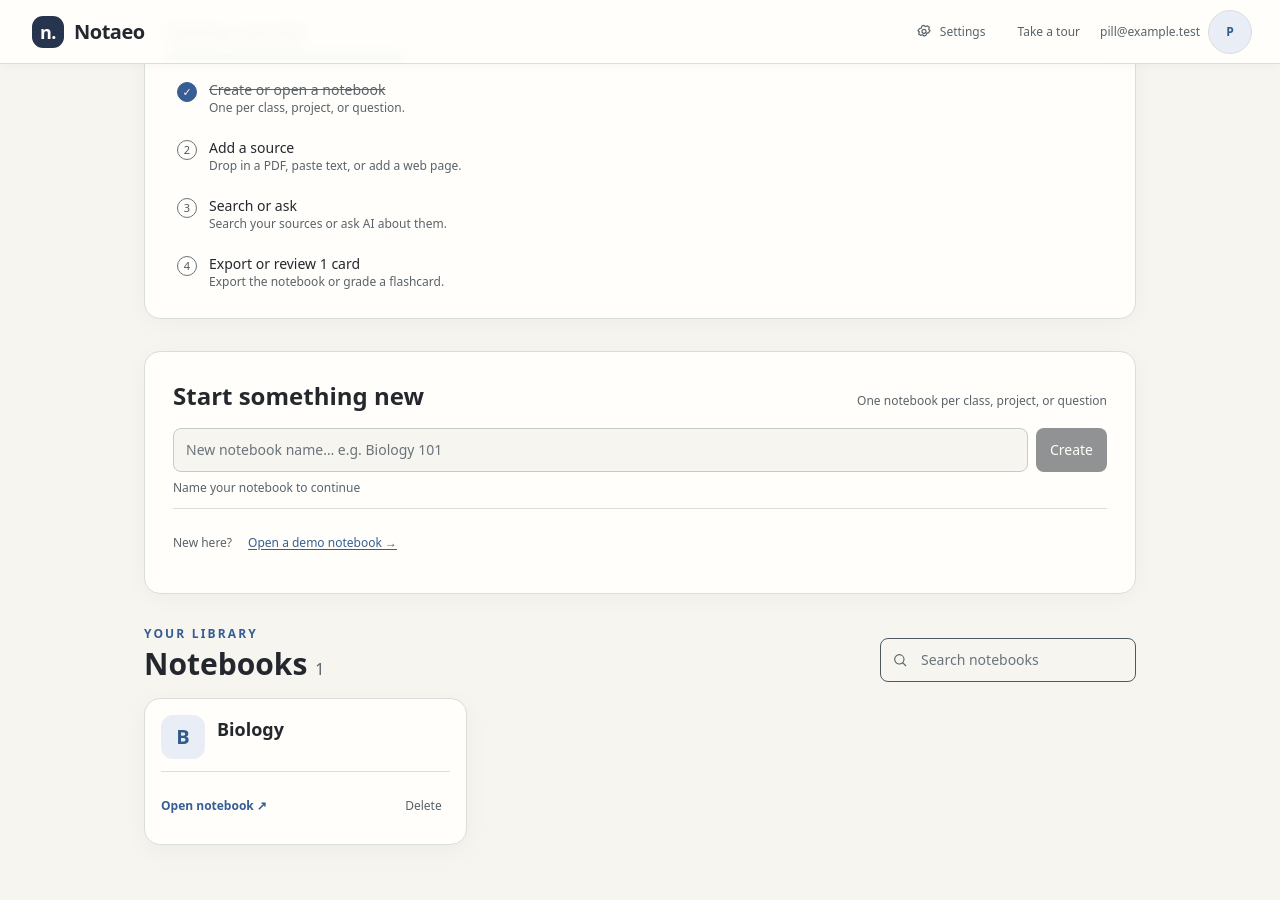
Test: dismisses the Exported pill via its dismiss button
(page scrolled)
Click the button with aria-label "Open Biology" at point(183, 737), box left=161, top=715, right=450, bottom=759
(page scrolled)
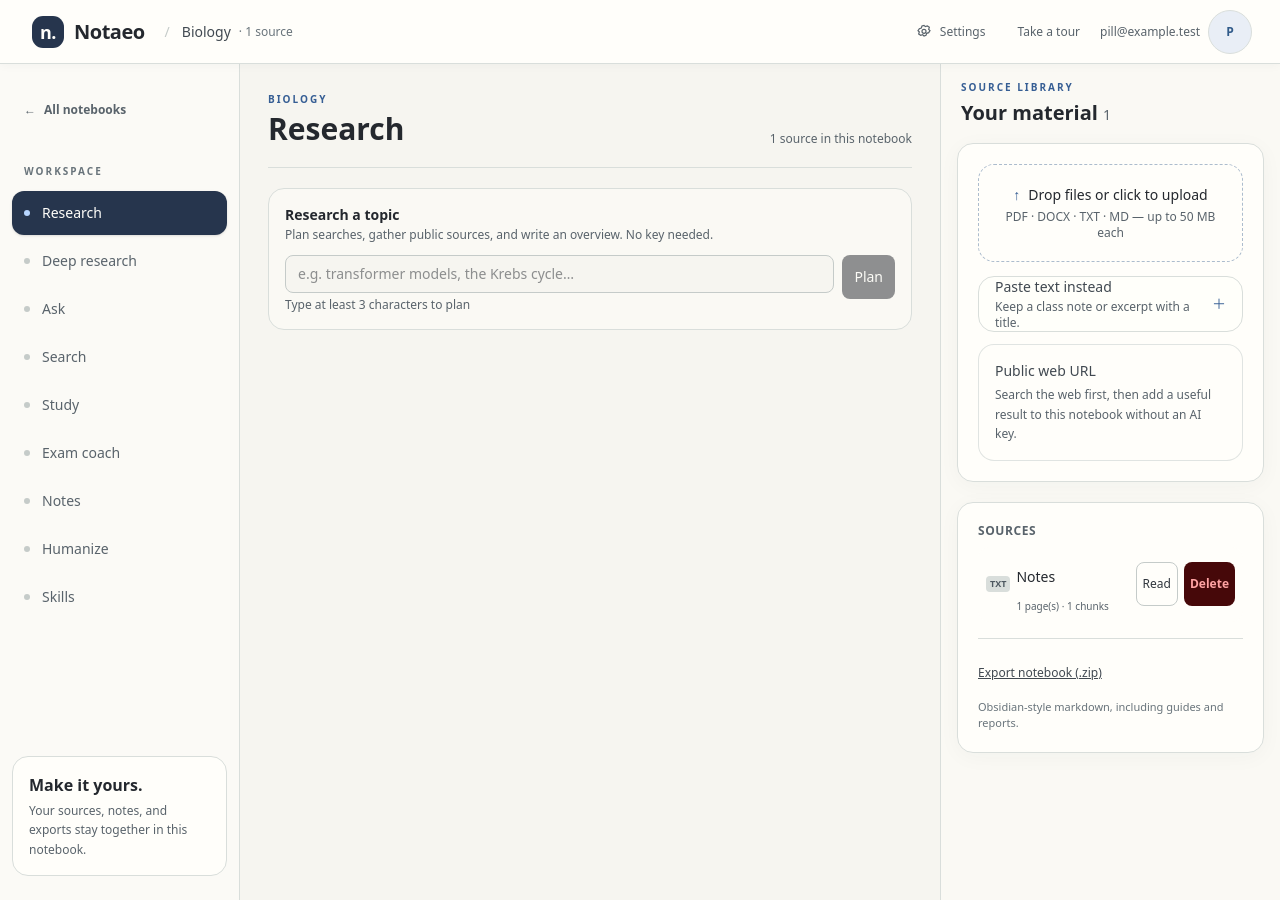
Click the button "Export notebook (.zip)" at point(1040, 672), box left=978, top=650, right=1102, bottom=694
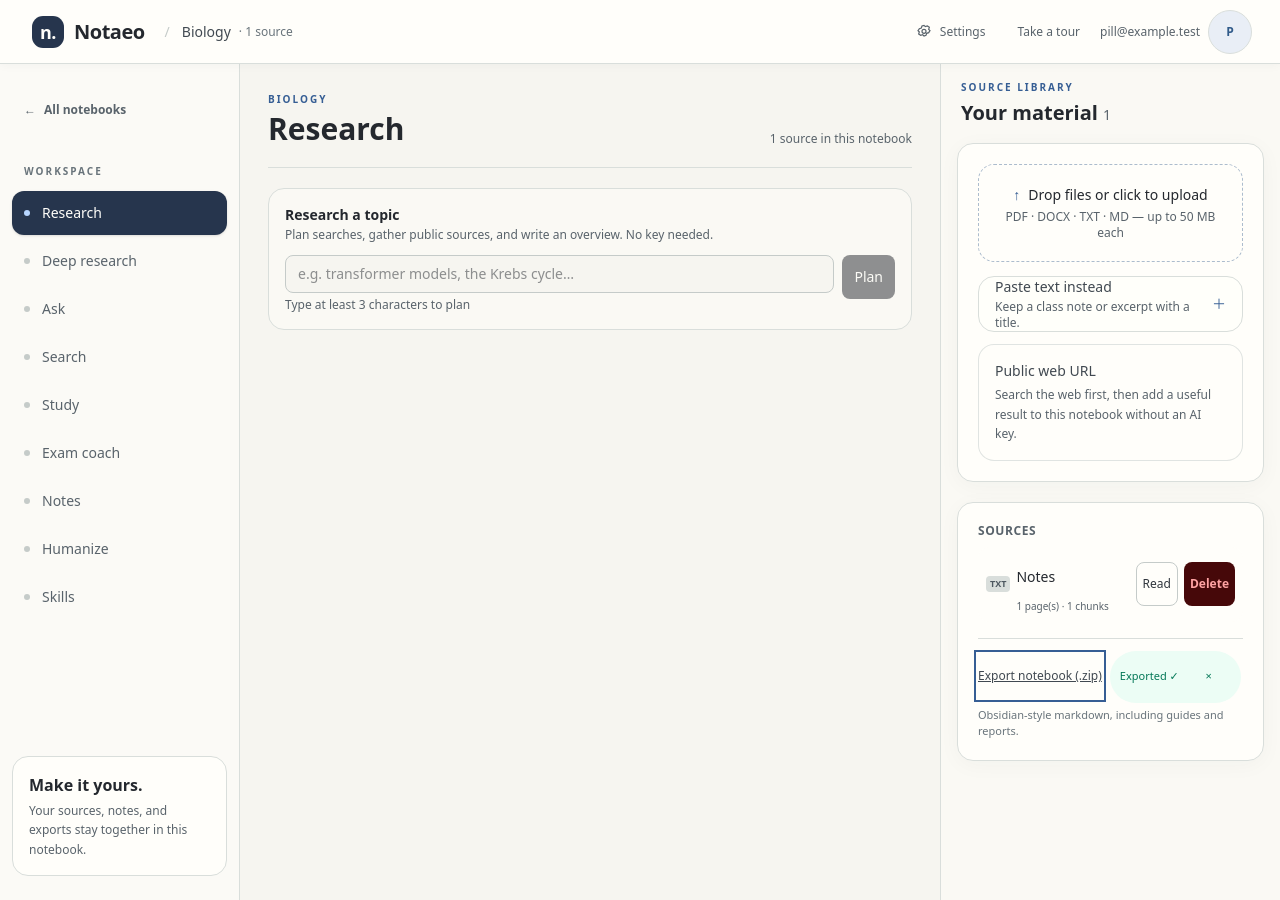
expect the text "Exported ✓ ×" is shown: met, box left=1110, top=650, right=1241, bottom=702
Click the button named "dismiss export confirmation" at point(1209, 676), box left=1187, top=654, right=1231, bottom=698
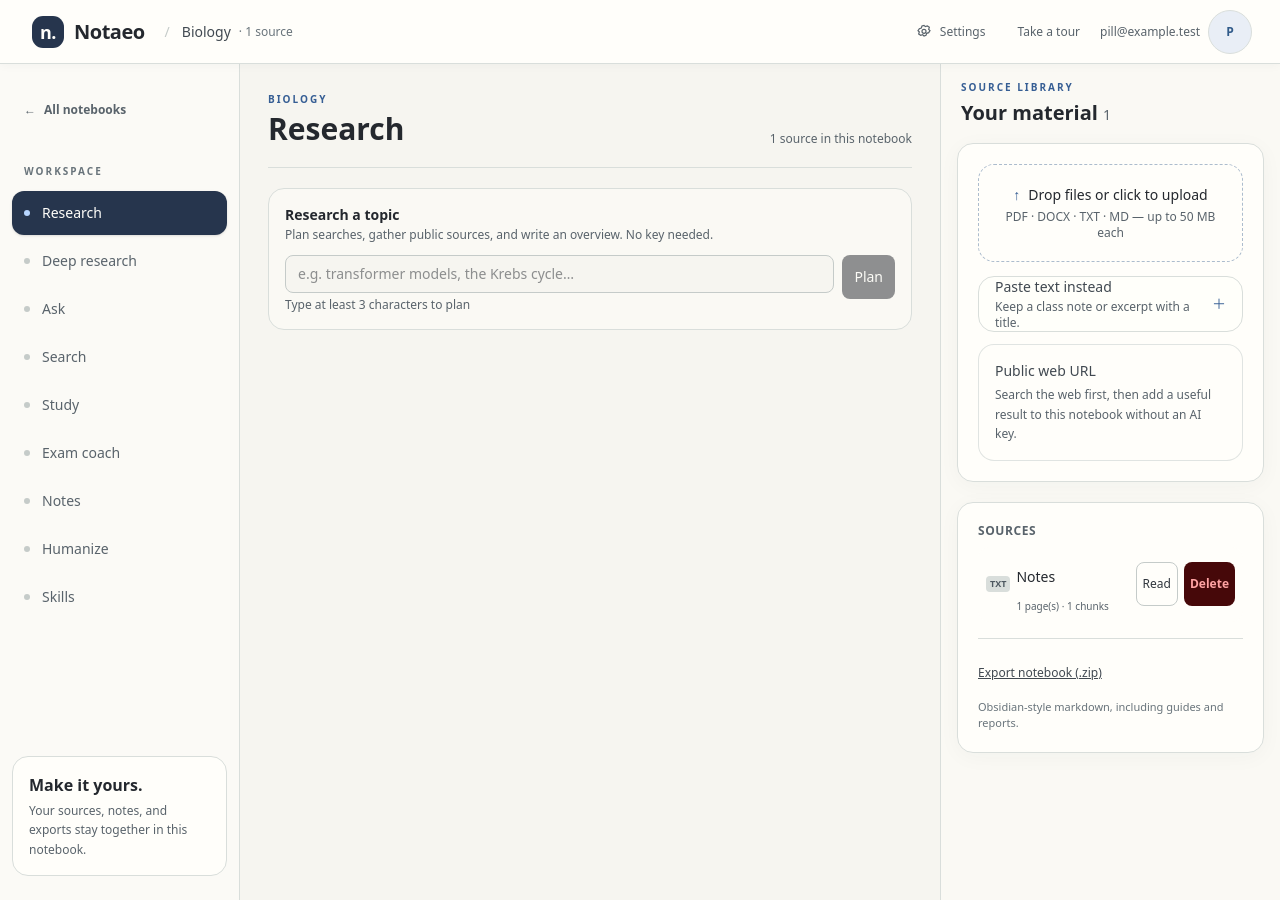
expect the text "Exported ✓" is gone: met
